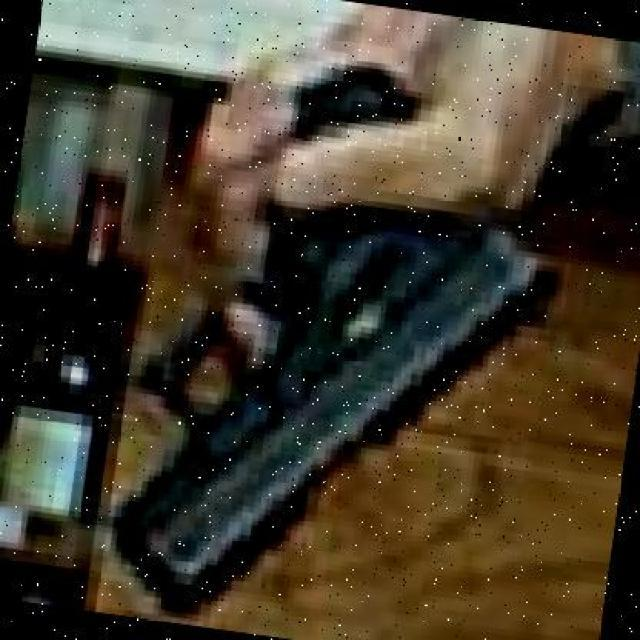rifle: (115, 56, 556, 615)
